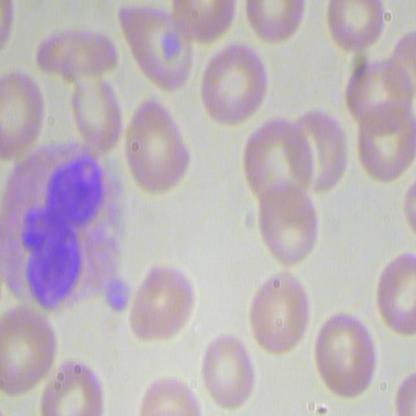Platelets: (105, 277, 133, 315)
RBC: (120, 257, 209, 350), (120, 94, 197, 200), (115, 1, 194, 94), (242, 115, 317, 211), (196, 38, 273, 131), (244, 266, 313, 357), (310, 307, 378, 398), (255, 180, 323, 271), (353, 101, 415, 185), (198, 321, 257, 409), (344, 56, 415, 127), (34, 19, 120, 76), (243, 1, 305, 58), (326, 1, 387, 58)
WBC: (1, 141, 125, 317)
